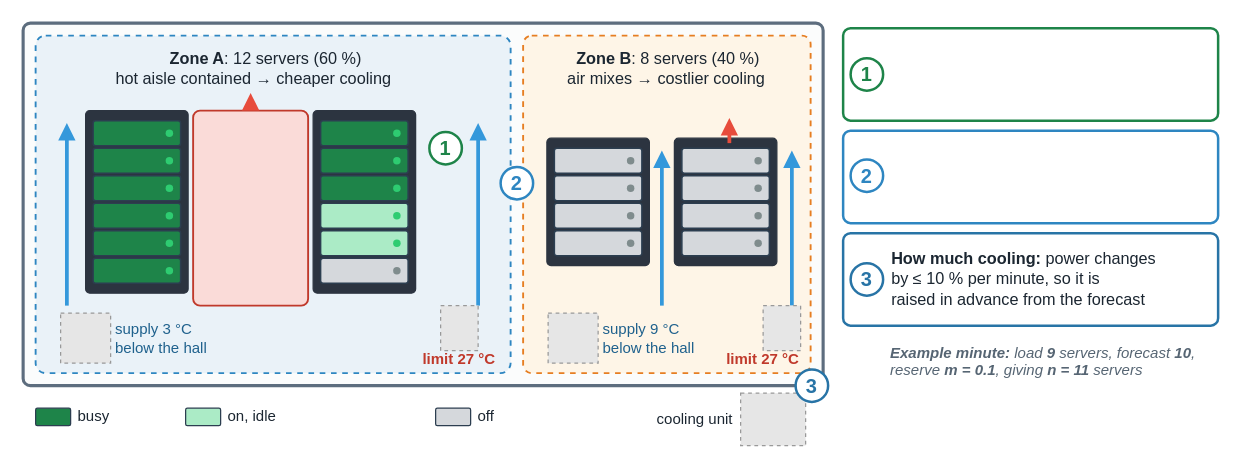
The diagram is 1241 pixels wide and 468 high, and some of its shapes have lost their labels. Grey dashed boxes stand in for pictures. The box of each missing label's shape, as (x1, y1, x2, y2) in pixels:
hot aisle: (192, 109, 308, 306)
How many servers: n = ⌈(1 + m)·ŷ⌉, the rest are switched off: (841, 26, 1219, 121)
Where tasks go: zone A first, only the excess to zone B: (841, 129, 1219, 224)
